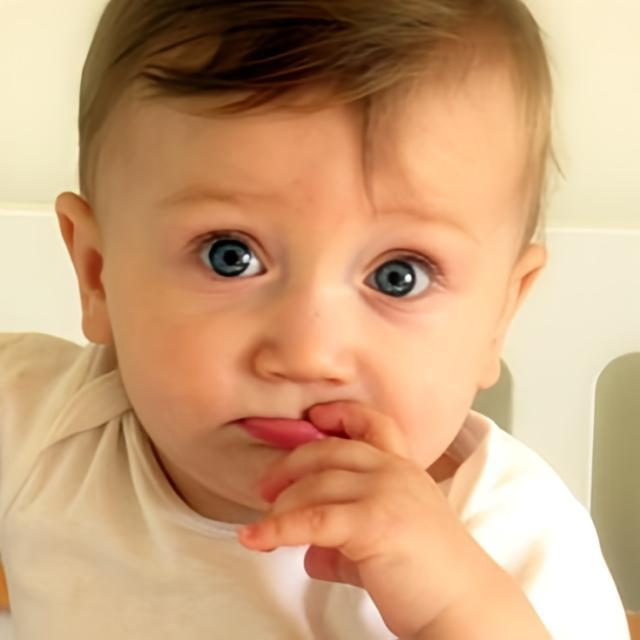surprise: (102, 18, 527, 516)
